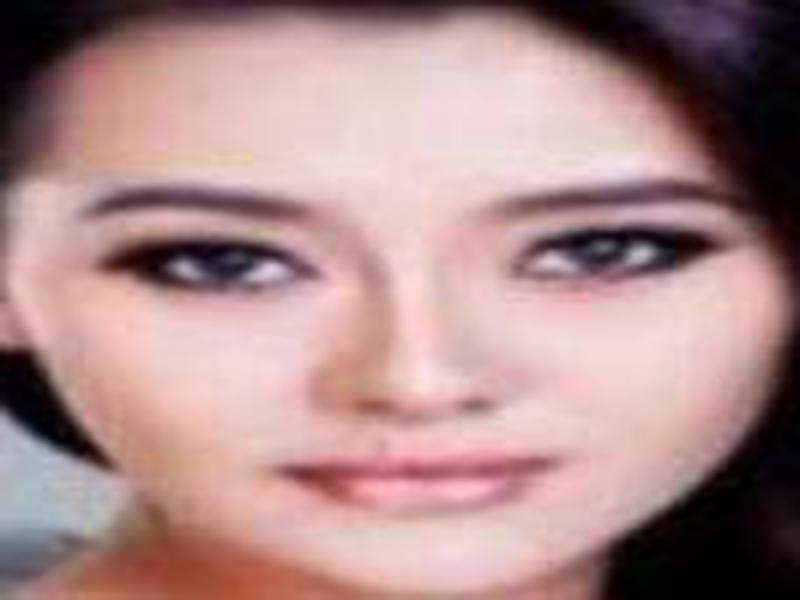without_mask: (25, 72, 783, 593)
